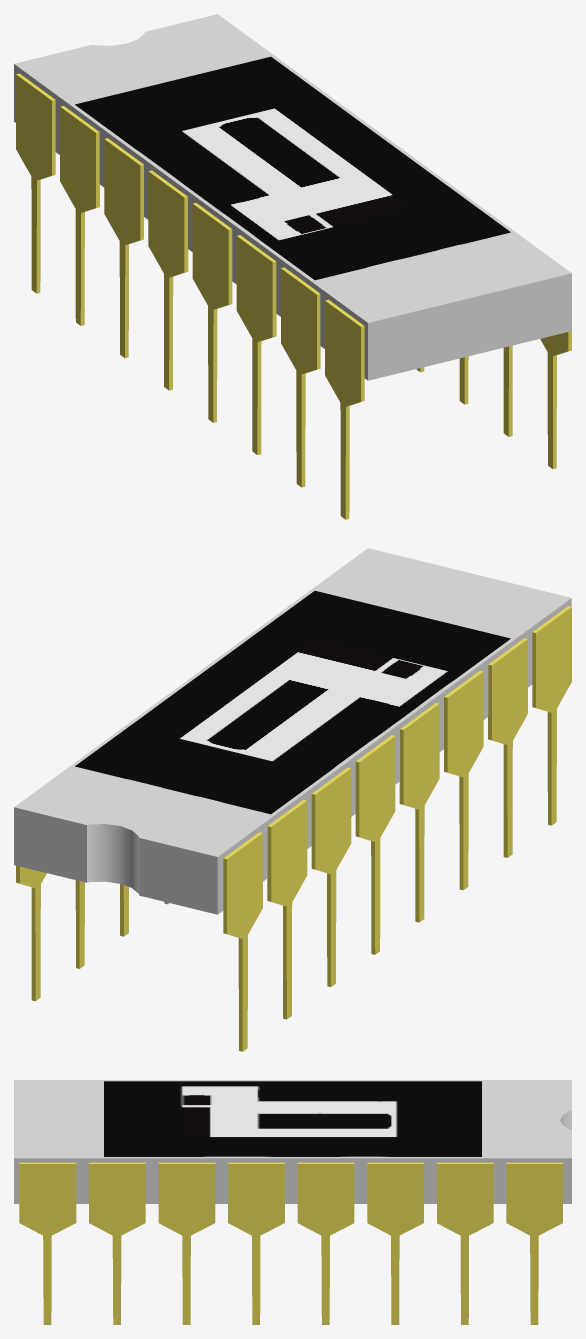
Rendered from intel4004fbx.glb.
3 views of the same model, one above another, from view 1: azimuth 30°, elevation 25°; view 2: azimuth 150°, elevation 25°; view 3: azimuth 270°, elevation 25° (orthographic). The views are drawn at different scales.
Visible parts, largest first — view 1: Cube_1; view 2: Cube_1; view 3: Cube_1.
Boxes of the visible parts, x1,y1,x2,y2 form: Cube_1: (14,14,571,519); Cube_1: (14,548,571,1051); Cube_1: (14,1080,571,1324).
Bounding box in the file's own units: 0.1104 × 0.105 × 0.3209.
Materials: 4 (1 with a texture image).
